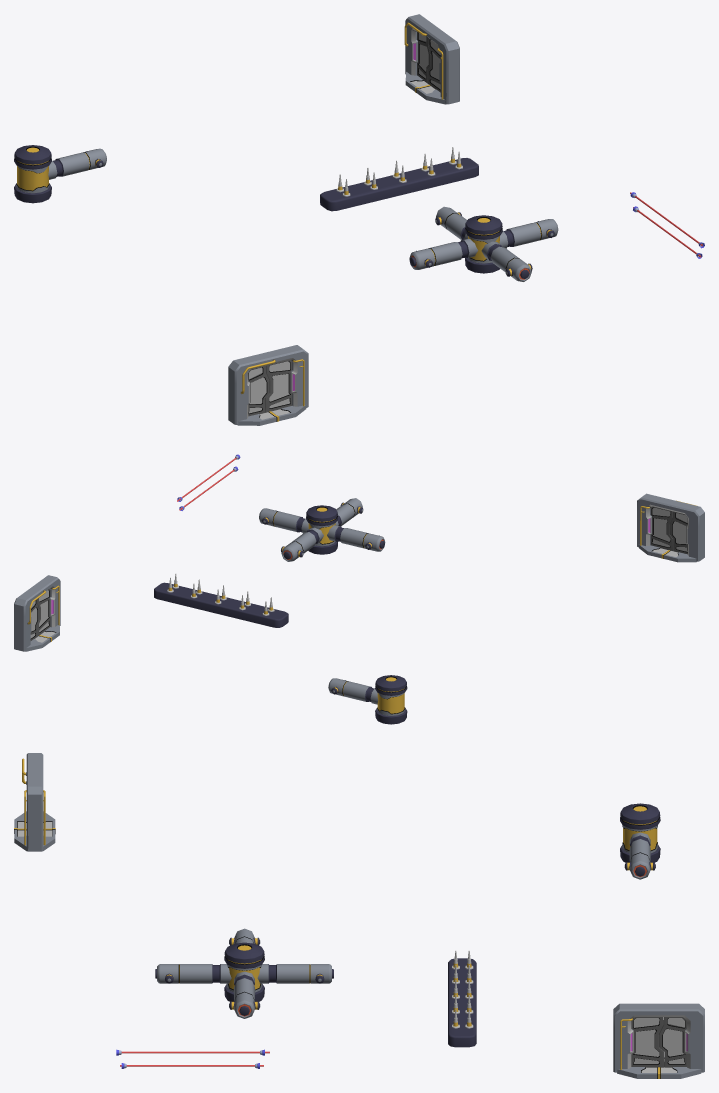
The picture shows the model from 3 angles, top to bottom: view 1: azimuth 30°, elevation 25°; view 2: azimuth 150°, elevation 25°; view 3: azimuth 270°, elevation 25°; orthographic projection. The views are drawn at different scales.
Parts seen in each view (by area): view 1: Base (×3), pCylinder14 (×4), pCylinder13 (×2), Right, Left, Base5; view 2: Base (×3), pCylinder14 (×5), pCylinder13 (×2), Right (×2), Left, Base5; view 3: Base (×3), pCylinder14 (×4), pCylinder13 (×2), Base5 (×2), Right, Left.
Boxes of the visible parts, left/top/right/bottom form: Base (×3): left=228, top=14, right=478, bottom=424; pCylinder14 (×4): left=48, top=148, right=558, bottom=281; pCylinder13 (×2): left=14, top=145, right=502, bottom=273; Right: left=265, top=360, right=292, bottom=412; Left: left=248, top=366, right=269, bottom=416; Base5: left=237, top=405, right=306, bottom=425; Base (×3): left=14, top=493, right=704, bottom=651; pCylinder14 (×5): left=259, top=498, right=385, bottom=704; pCylinder13 (×2): left=306, top=505, right=407, bottom=724; Right (×2): left=37, top=506, right=673, bottom=636; Left: left=669, top=511, right=687, bottom=554; Base5: left=638, top=544, right=696, bottom=562; Base (×3): left=26, top=753, right=704, bottom=1072; pCylinder14 (×4): left=155, top=832, right=650, bottom=1018; pCylinder13 (×2): left=224, top=803, right=660, bottom=1001; Base5 (×2): left=14, top=811, right=701, bottom=1078; Right: left=631, top=1017, right=664, bottom=1067; Left: left=659, top=1017, right=686, bottom=1067.
Size of the model in its own units: 377 by 43.83 by 412.
